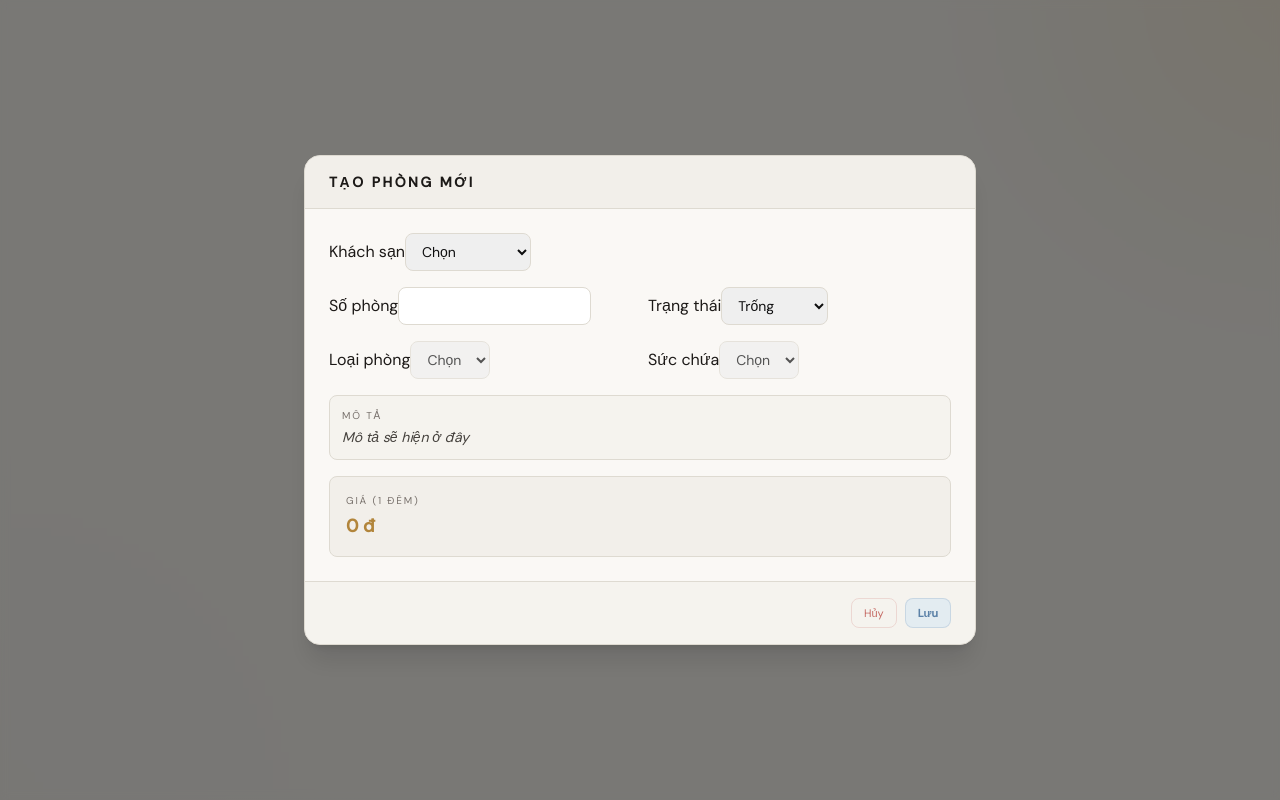
Test case: RoomModal – reset state khi đổi khách sạn › khi chọn lại khách sạn khác, loại phòng và giá bị reset
The image size is (1280, 800).
Chọn khách sạn A
Select "Khách sạn A" in the dropdown next to "Khách sạn" at coordinates (468, 252), box [405,233,531,271]
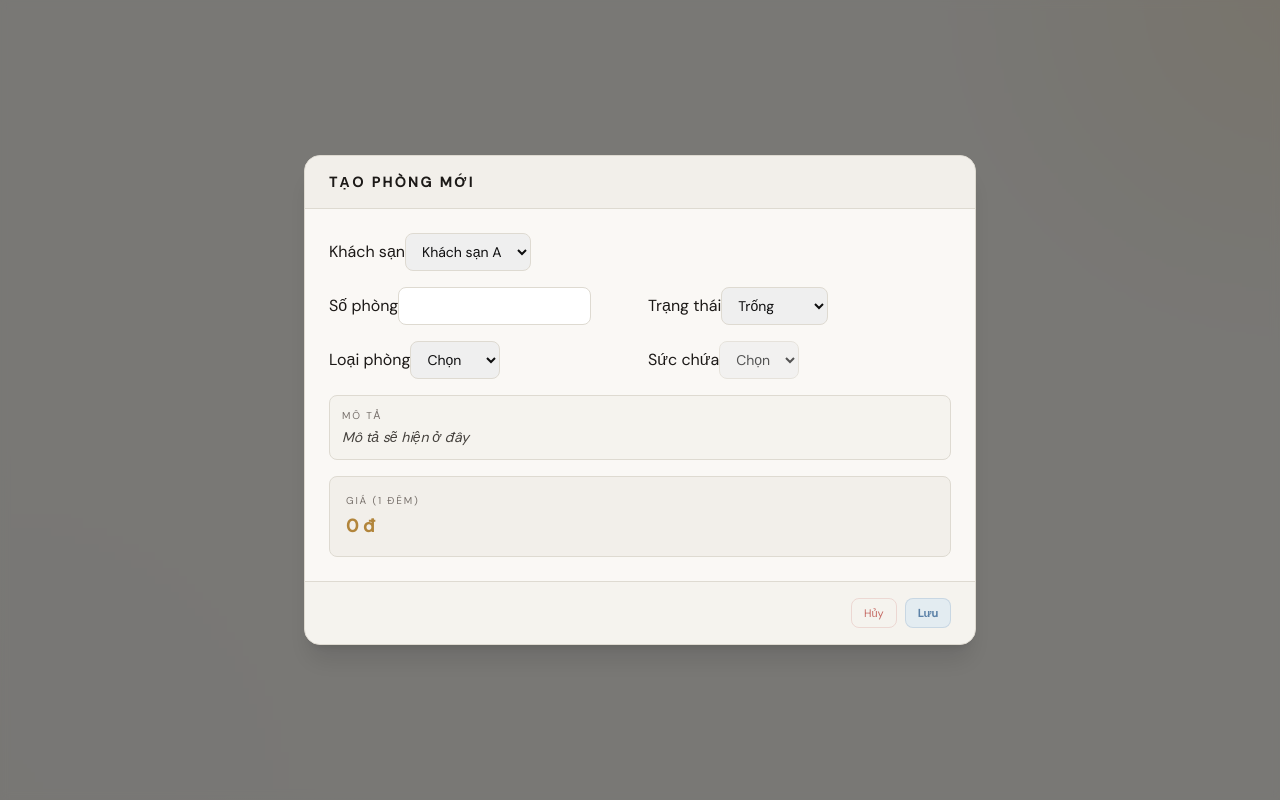
Select "Deluxe" in the dropdown next to "Loại phòng" at coordinates (455, 360), box [410,341,500,379]
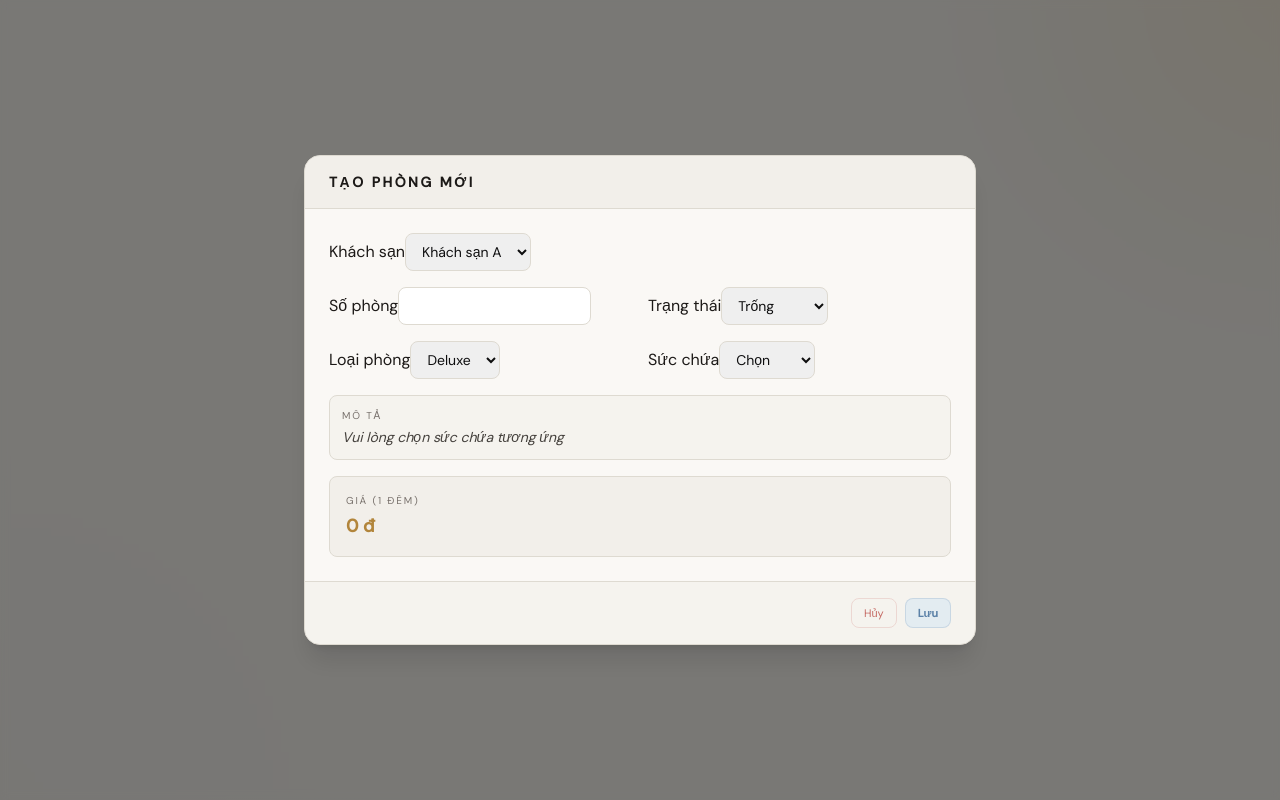
Select "2 người" in the 4th dropdown at coordinates (767, 360), box [719,341,815,379]
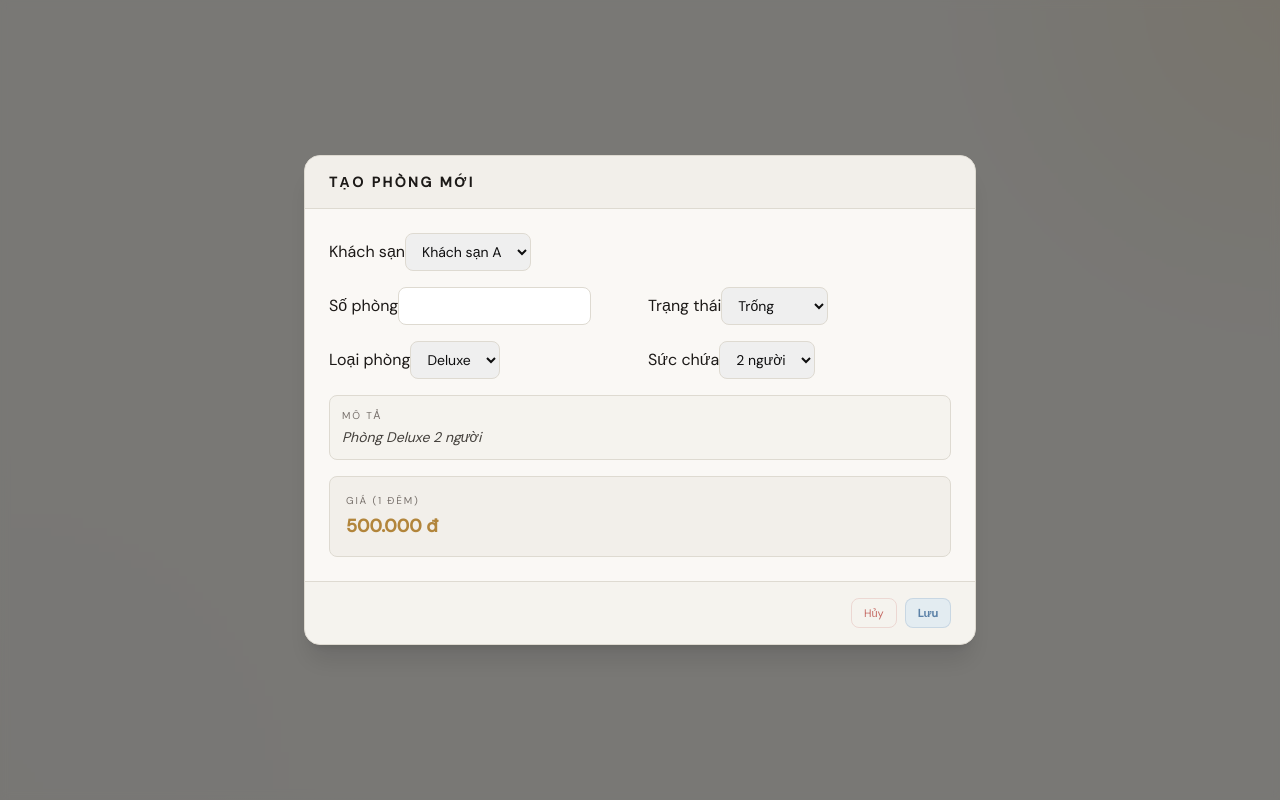
Expected: the text "500.000 đ" is shown, [346,514,438,538]
Select "Khách sạn B" in the dropdown next to "Khách sạn" at coordinates (468, 252), box [405,233,531,271]
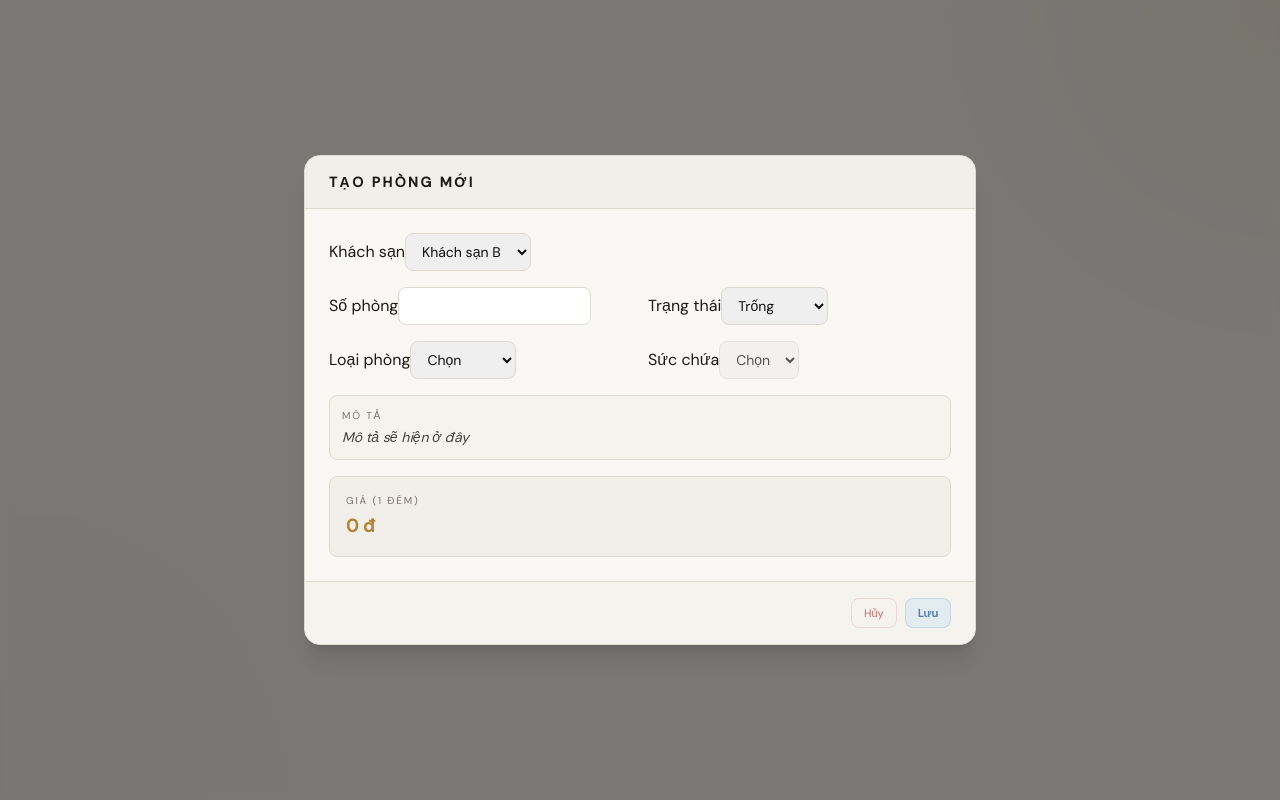
Expected: the text "0 đ" is shown, [346,514,375,538]
